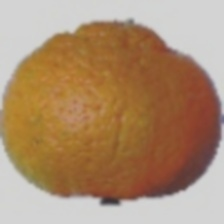tangerine: (26, 53, 181, 206)
